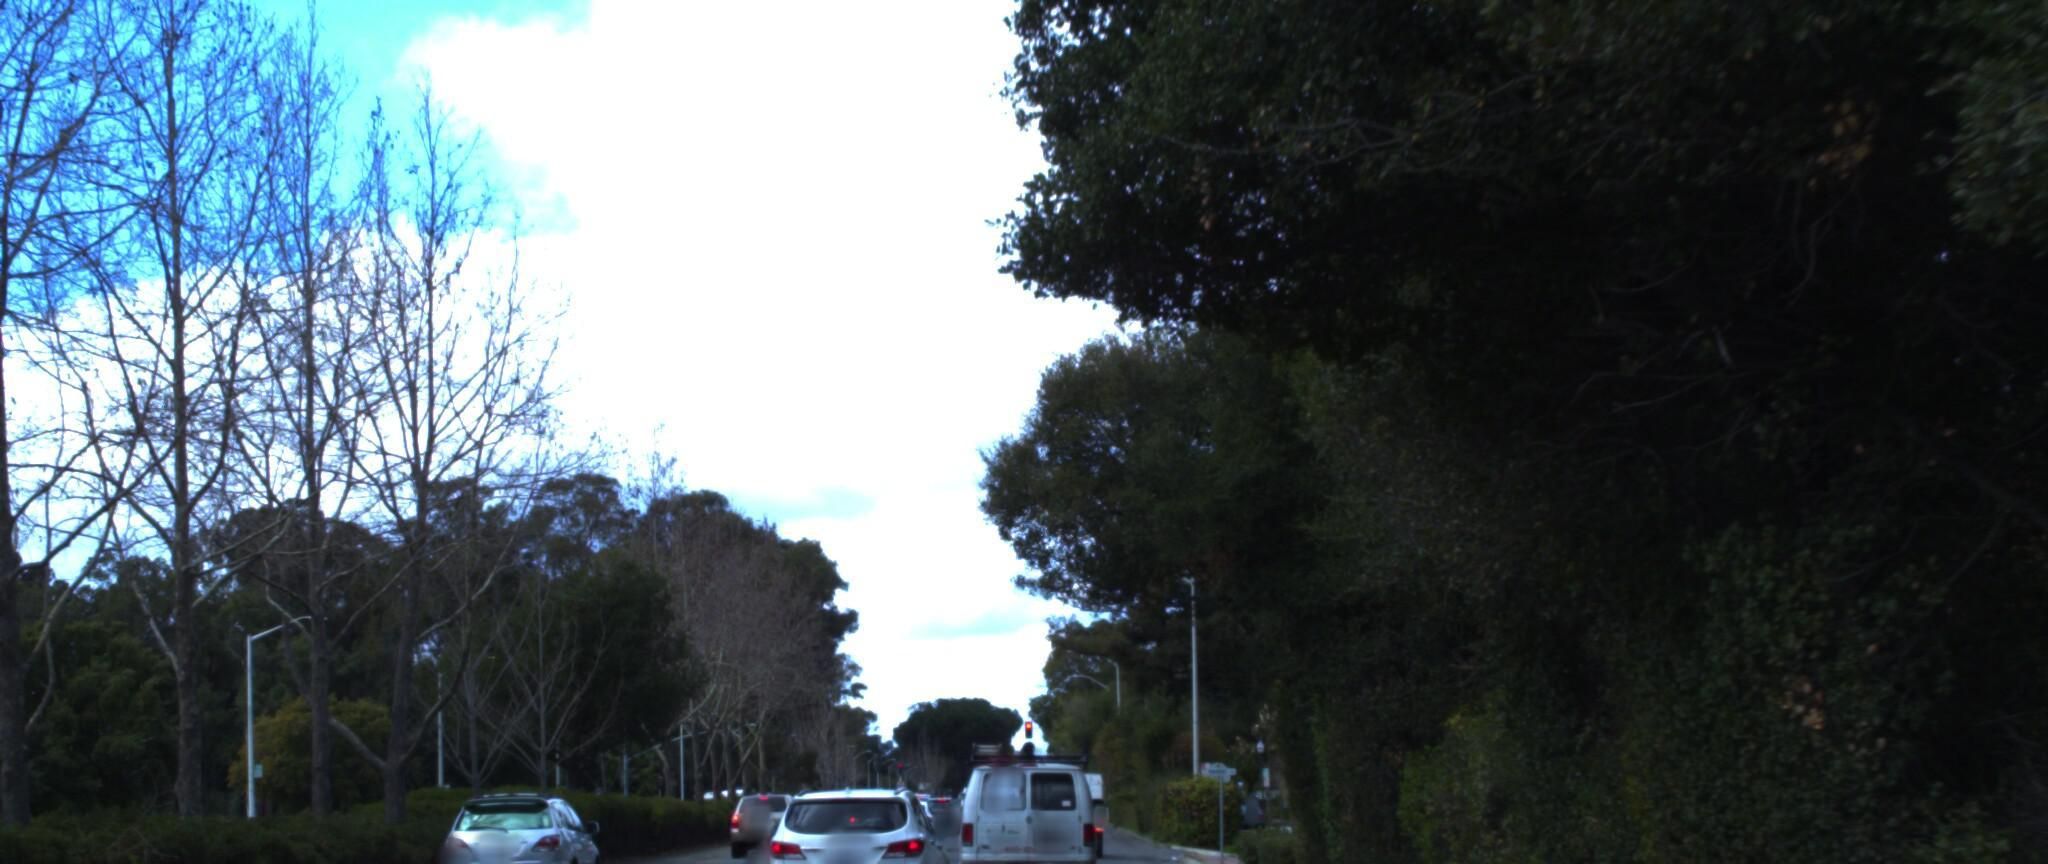car: (953, 706, 1125, 864), (748, 744, 963, 864), (434, 761, 616, 864), (728, 762, 822, 831)
